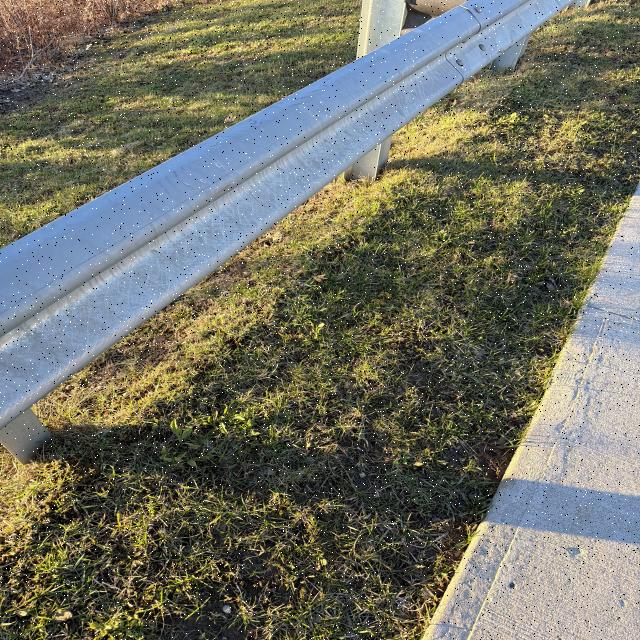Guard rail: (19, 17, 574, 372)
